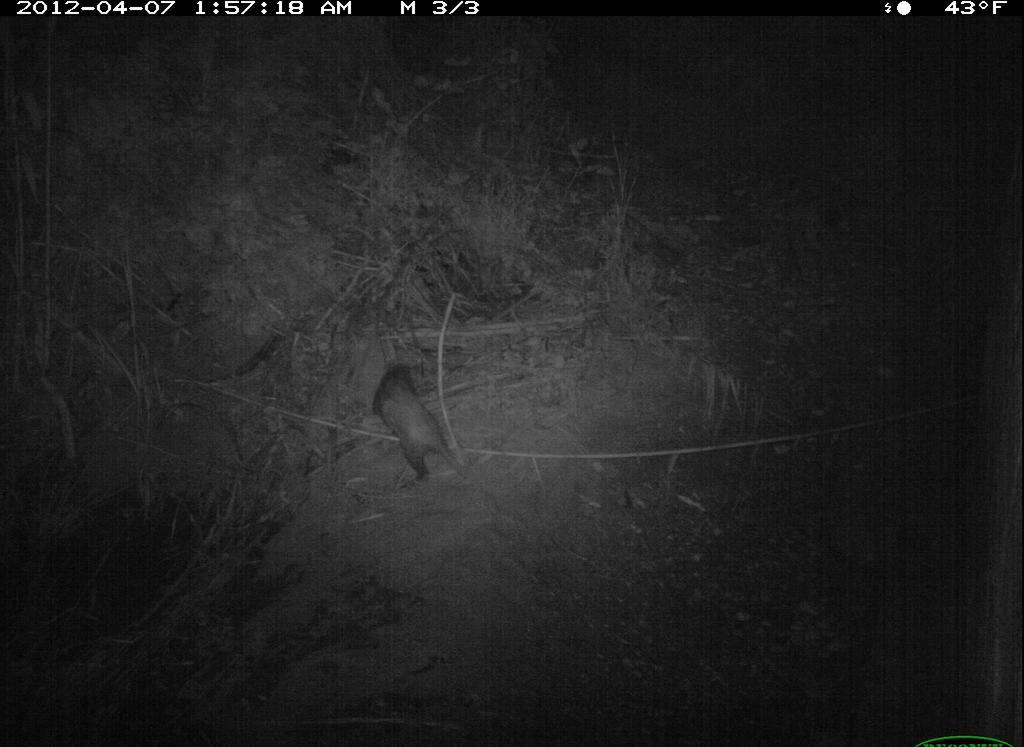opossum: (356, 354, 488, 506)
